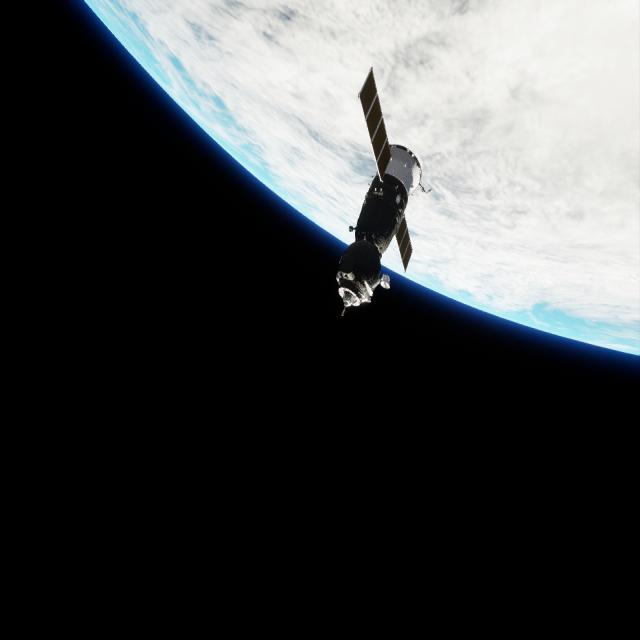Satellites revolving around earth: (333, 63, 426, 319)
